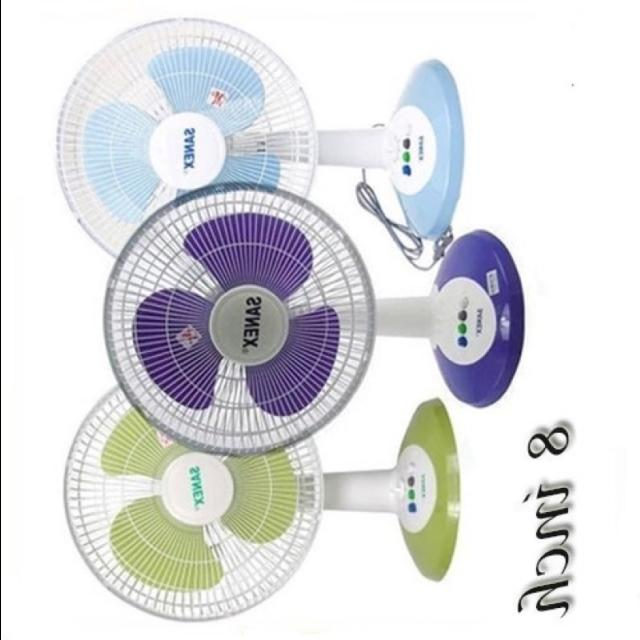fan: (57, 9, 521, 628)
